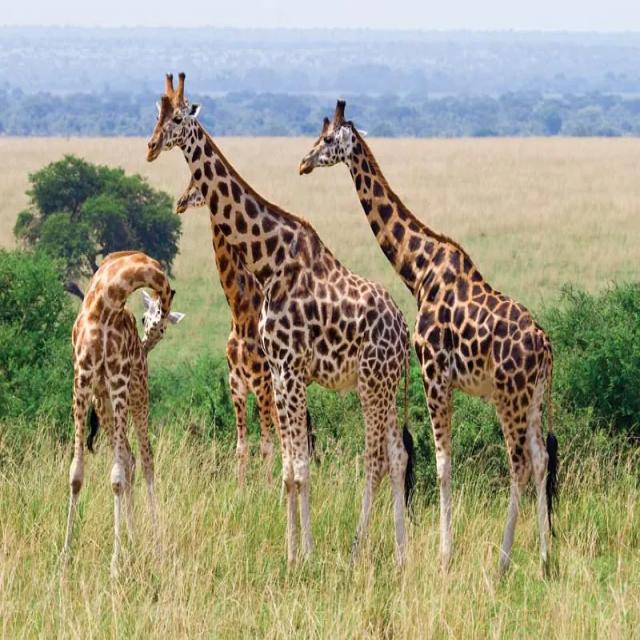Giraffe: (139, 62, 416, 585), (291, 93, 562, 590), (59, 235, 183, 571)
